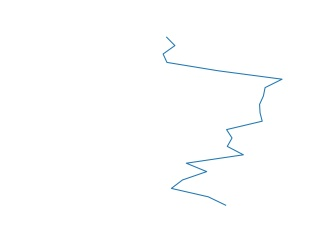floodPlain: (161, 36, 285, 209)
